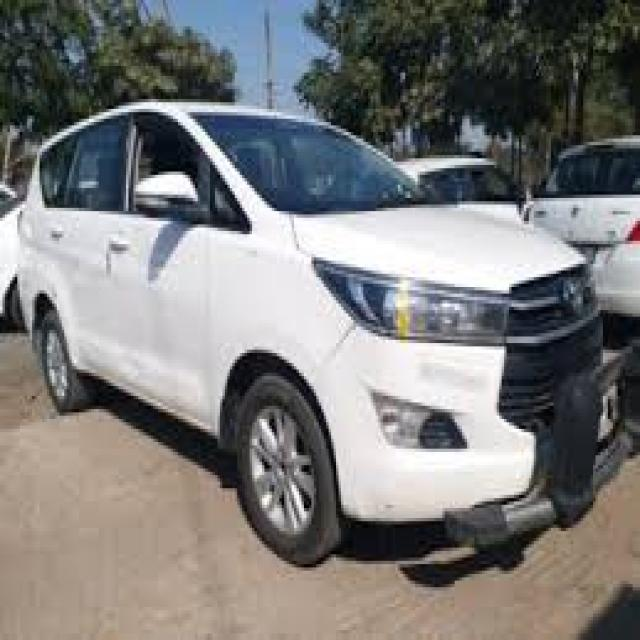light_vehicle: (18, 101, 603, 567)
